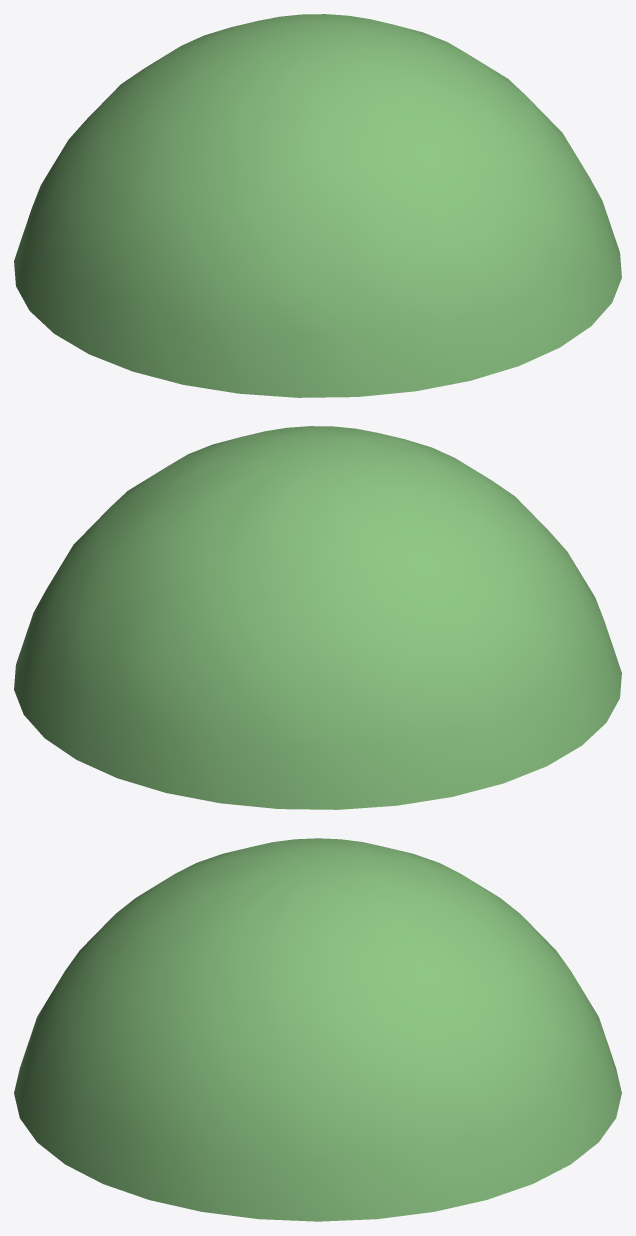
File: Dome.fbx
The picture shows the model from 3 angles, top to bottom: view 1: azimuth 30°, elevation 25°; view 2: azimuth 150°, elevation 25°; view 3: azimuth 270°, elevation 25°; orthographic projection.
Visible parts, largest first — view 1: Sphere001; view 2: Sphere001; view 3: Sphere001.
Part boxes in pixels (box(x1,y1,x2,y2)): Sphere001: box(14, 14, 621, 397); Sphere001: box(14, 426, 621, 809); Sphere001: box(14, 838, 621, 1221).
Bounding box in the file's own units: 1971 × 1971 × 809.
